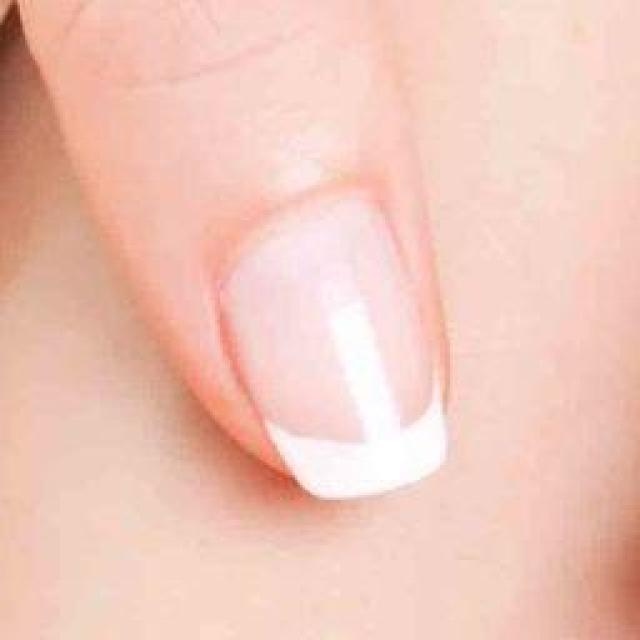Nail: (220, 194, 446, 498)
